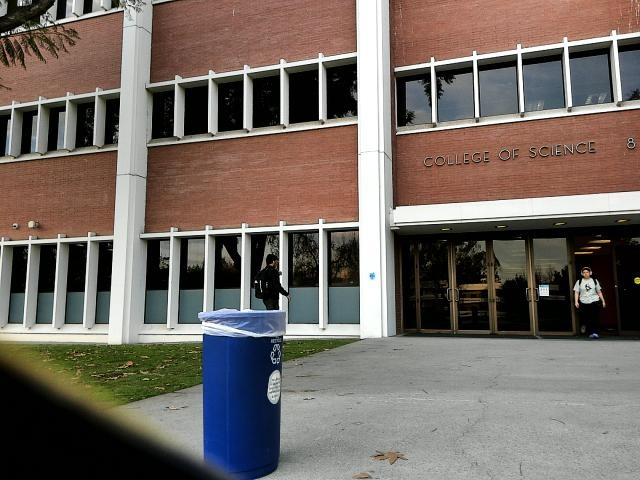trashcan_open: (194, 307, 291, 480)
